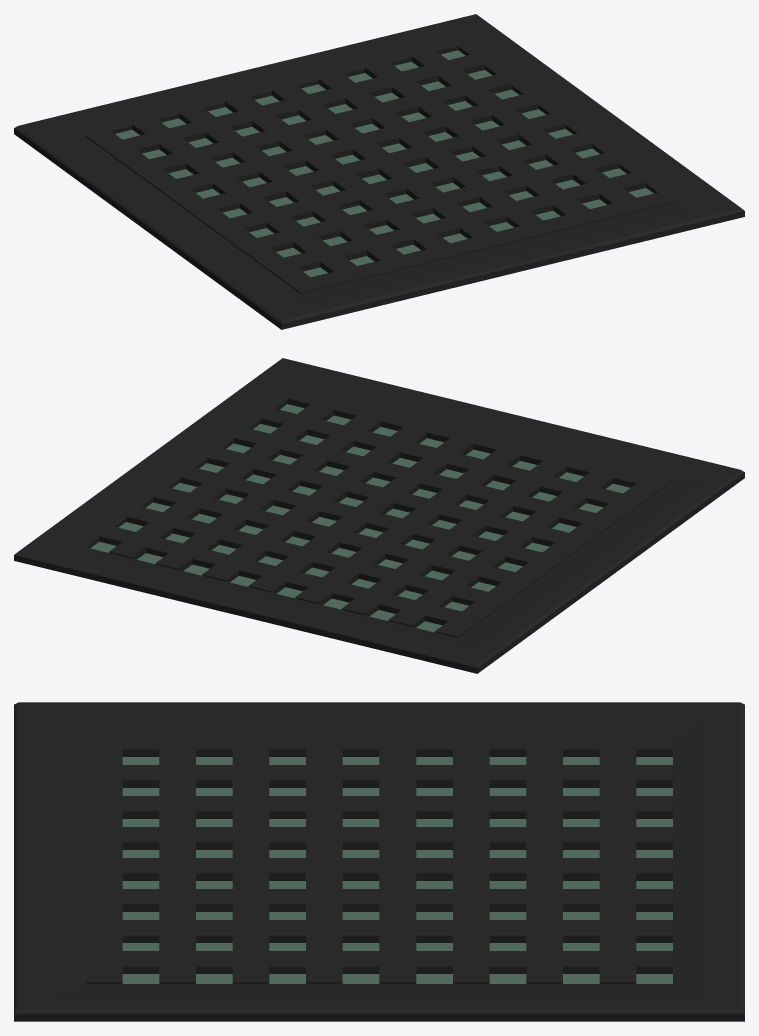
File: floorHoles.dae
The picture shows the model from 3 angles, top to bottom: view 1: azimuth 30°, elevation 25°; view 2: azimuth 150°, elevation 25°; view 3: azimuth 270°, elevation 25°; orthographic projection. The views are drawn at different scales.
Parts seen in each view (by area): view 1: pCube1; view 2: pCube1; view 3: pCube1.
Part boxes in pixels (x1,y1,x2,y2): pCube1: (14,14,744,329); pCube1: (14,358,744,673); pCube1: (14,702,744,1021).
Bounding box in the file's own units: 6.96 × 0.1271 × 6.96.
